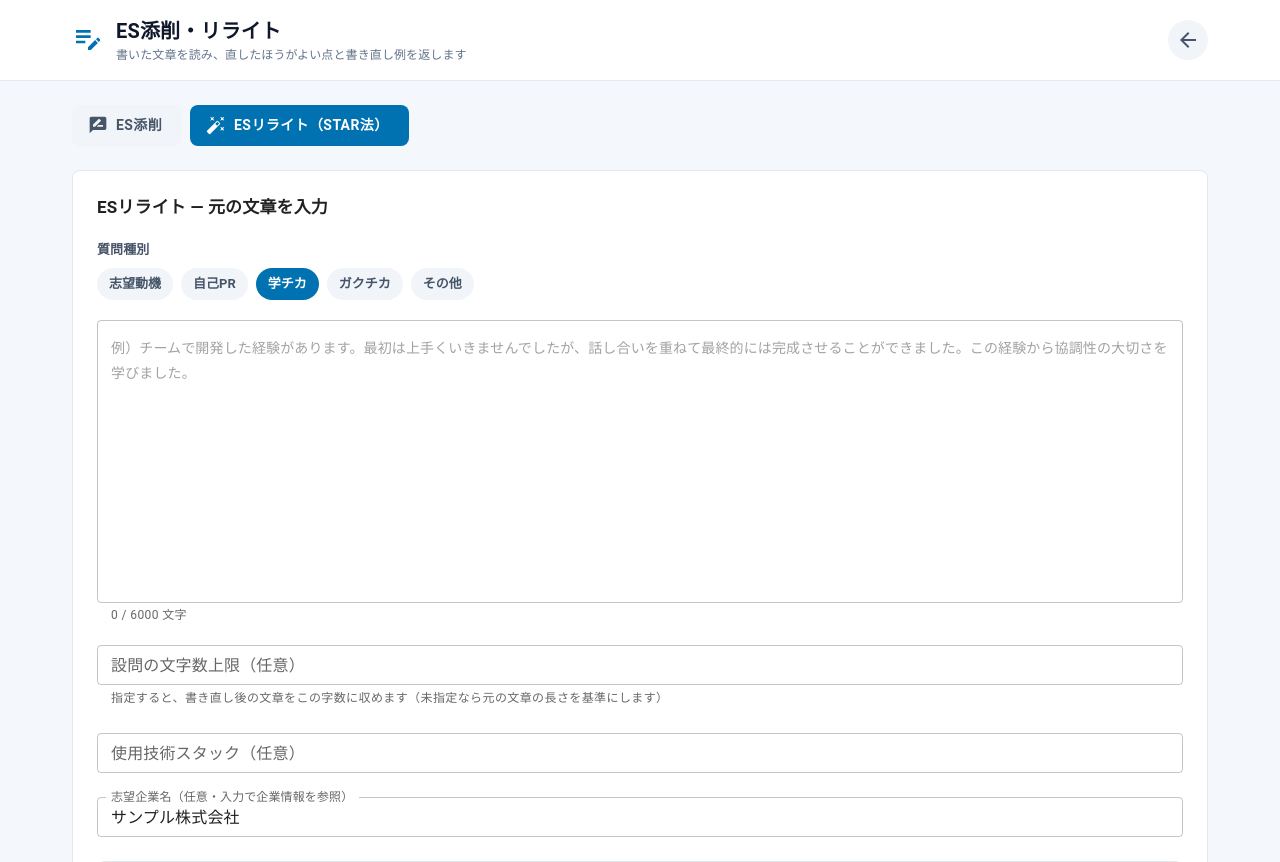
Scenario: ESRewritePage 422の生JSON表示防止 (#1015 / #1521) › detailが文字列でない422では生の本文を表示せず、一般文にフォールバックする
The width and height of the screenshot is (1280, 862).
Click the button "ES添削" at {"x": 127, "y": 125}, box [72,105,182,146]
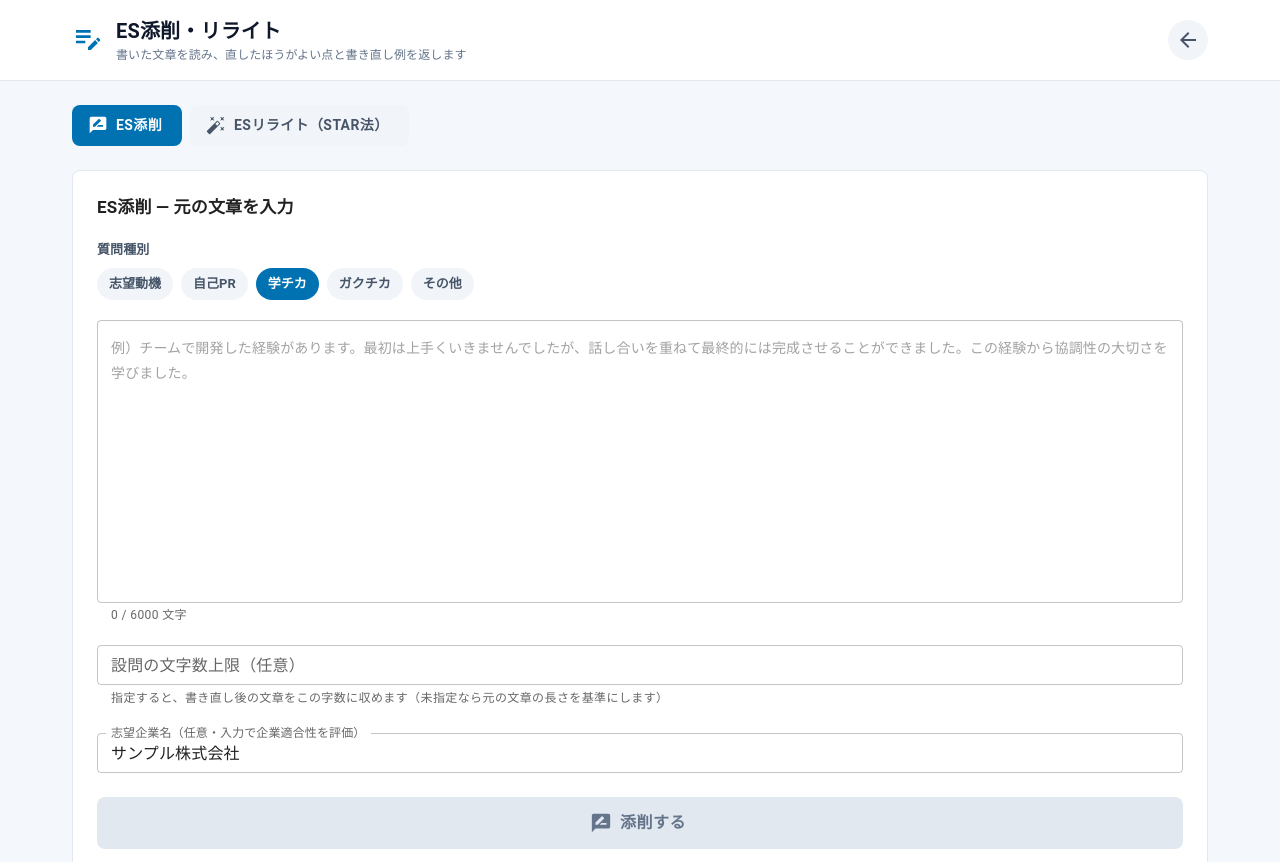
Replace the text in the text box with placeholder "チームで開発した経験があります" with "長い文章です。" at {"x": 640, "y": 461}, box [111,336,1169,586]
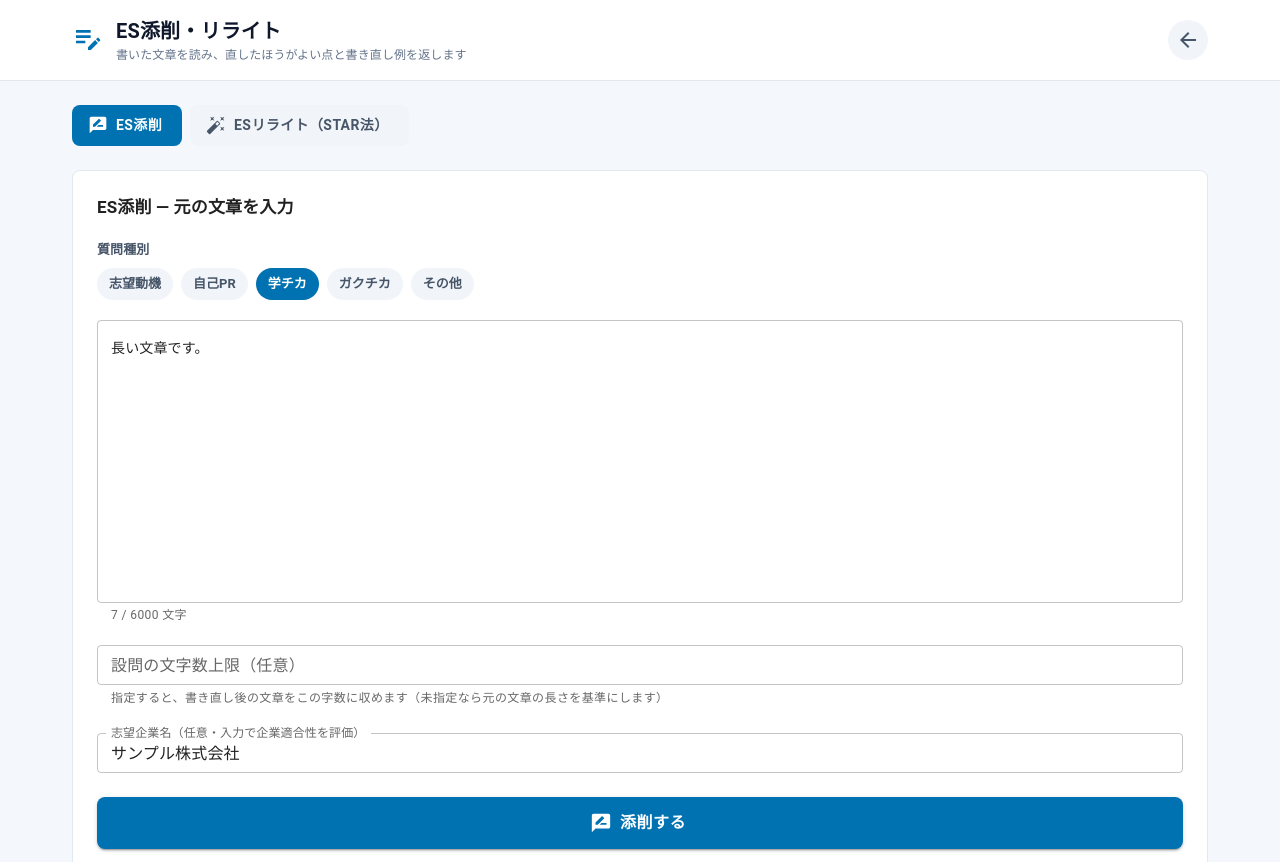
Click the button "添削する" at {"x": 640, "y": 823}, box [97,797,1183,849]
(page scrolled)
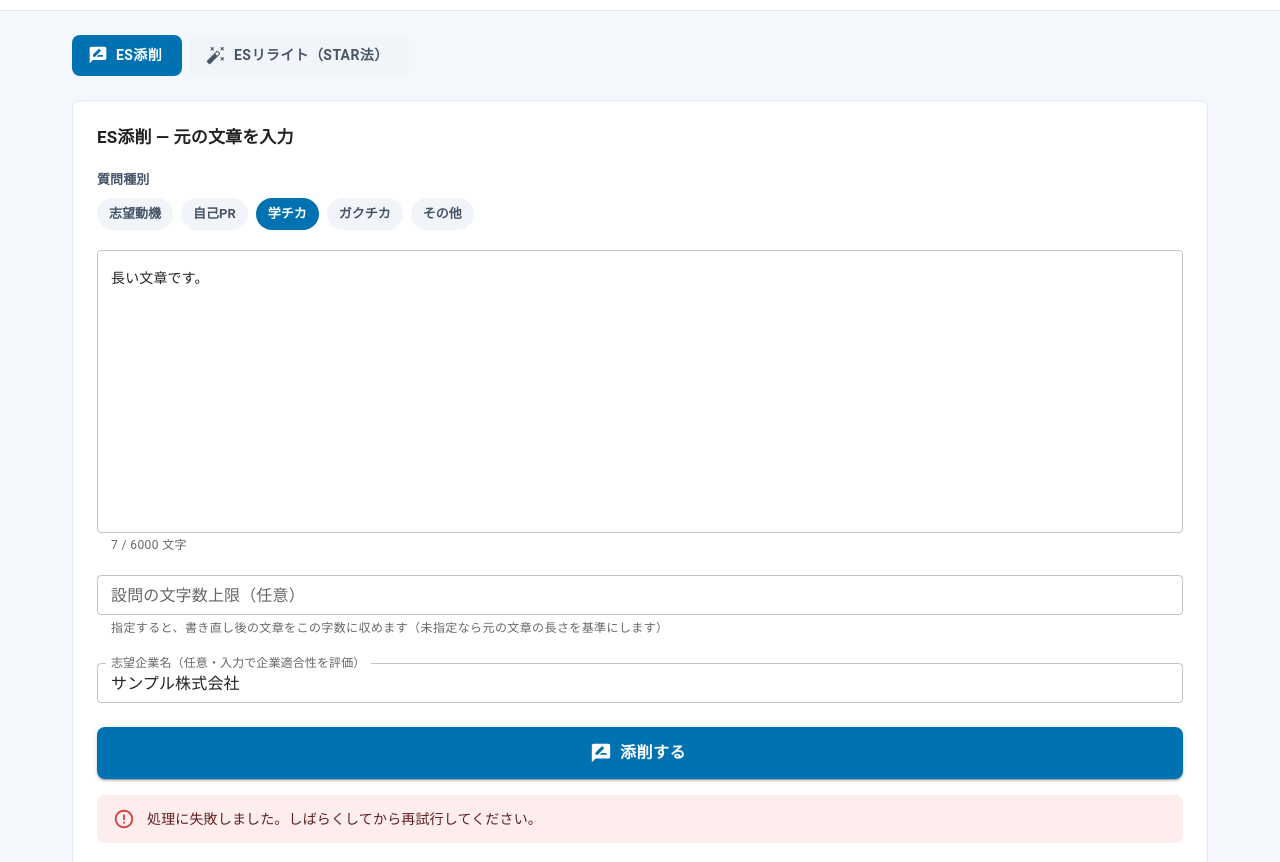
Expected: the text "処理に失敗しました。しばらくしてから再試行してください。" is shown, [147,811,542,827]
